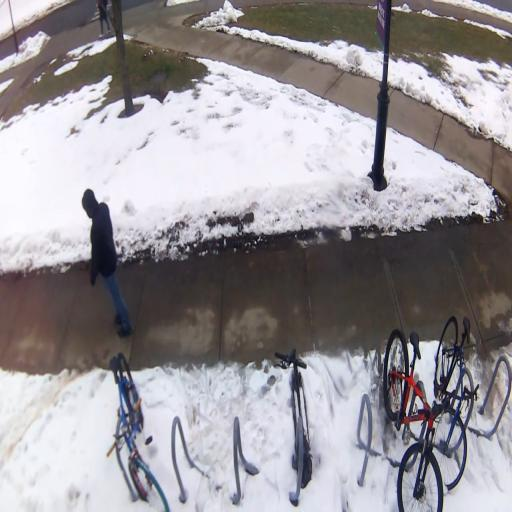pessoa: (81, 183, 132, 342)
